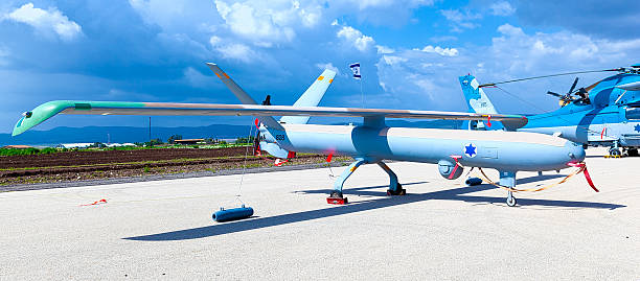helicopter: (457, 62, 640, 156)
military drone: (10, 61, 585, 199)
